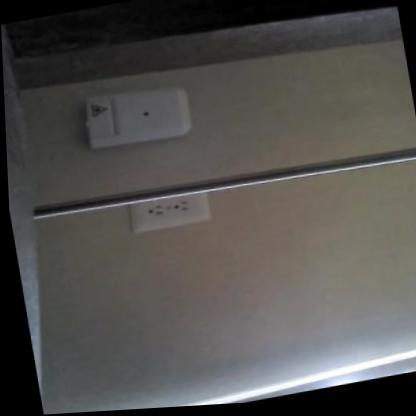OUTLET: (127, 188, 210, 234)
